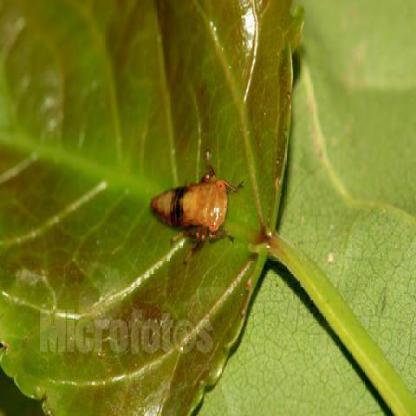Green-Leafhopper: (147, 154, 241, 259)
